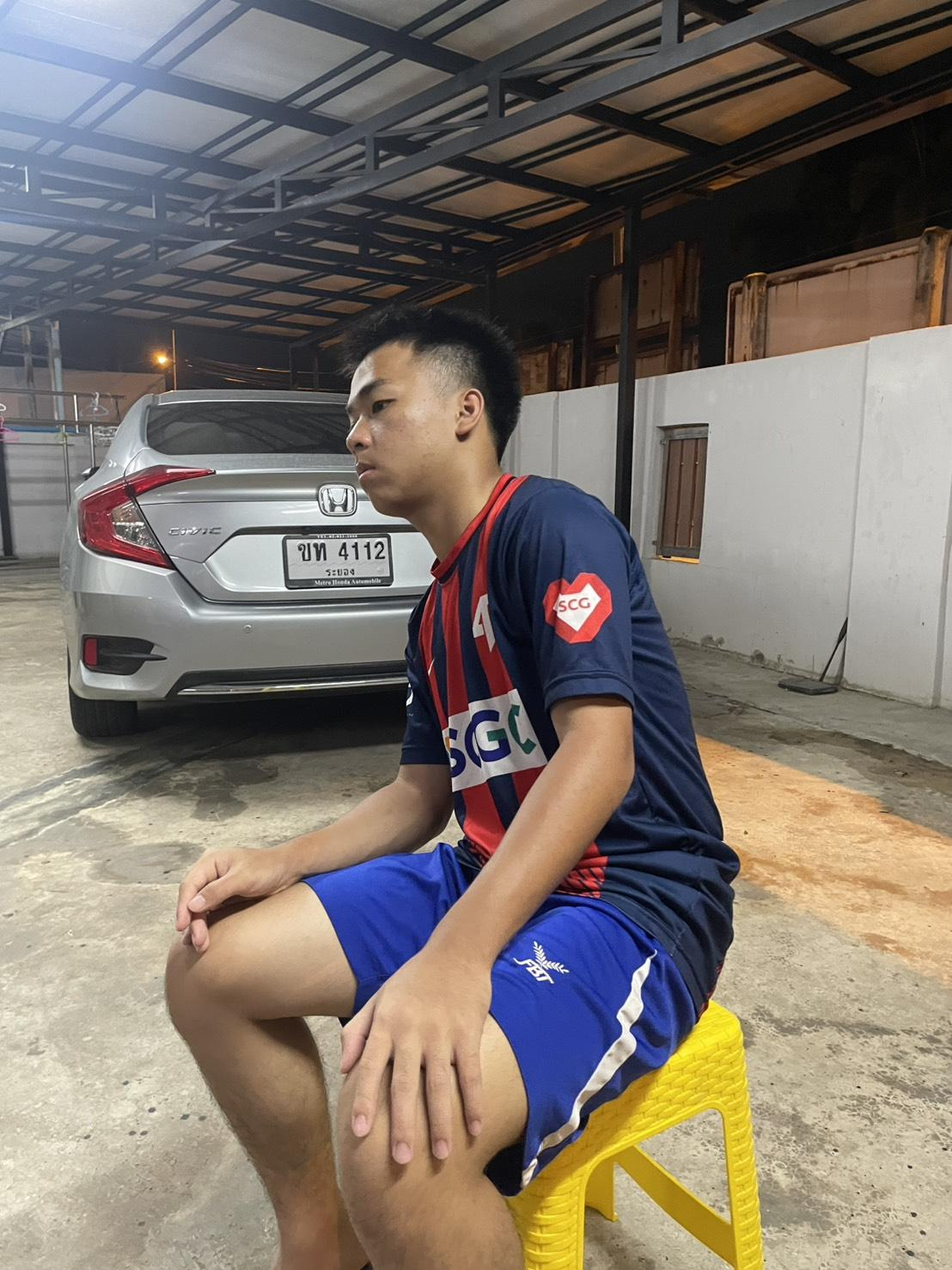BadPosture: (256, 305, 738, 983)
